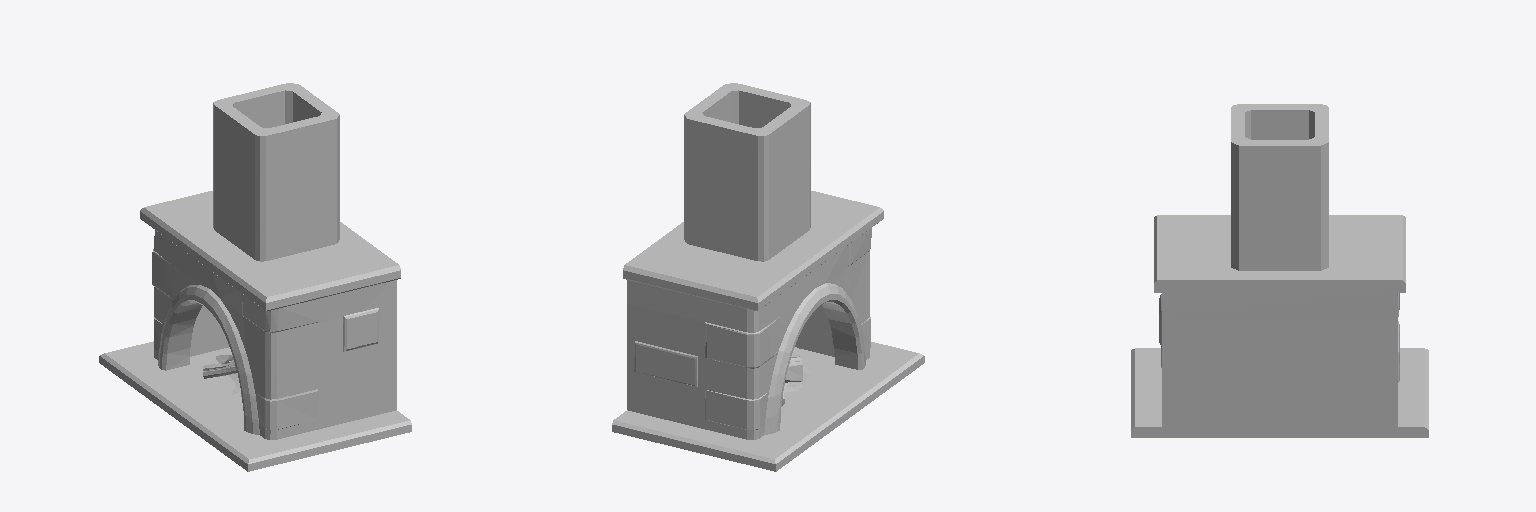
File: Chimenea.obj
The picture shows the model from 3 angles: view 1: azimuth 30°, elevation 25°; view 2: azimuth 150°, elevation 25°; view 3: azimuth 270°, elevation 25°; orthographic projection.
Parts seen in each view (by area): view 1: fireplace; view 2: fireplace; view 3: fireplace.
Boxes of the visible parts, x1=… form: fireplace: x1=99, y1=83, x2=411, y2=471; fireplace: x1=612, y1=83, x2=924, y2=471; fireplace: x1=1131, y1=104, x2=1428, y2=437.
Size of the model in its own units: 4.48 by 7.36 by 7.